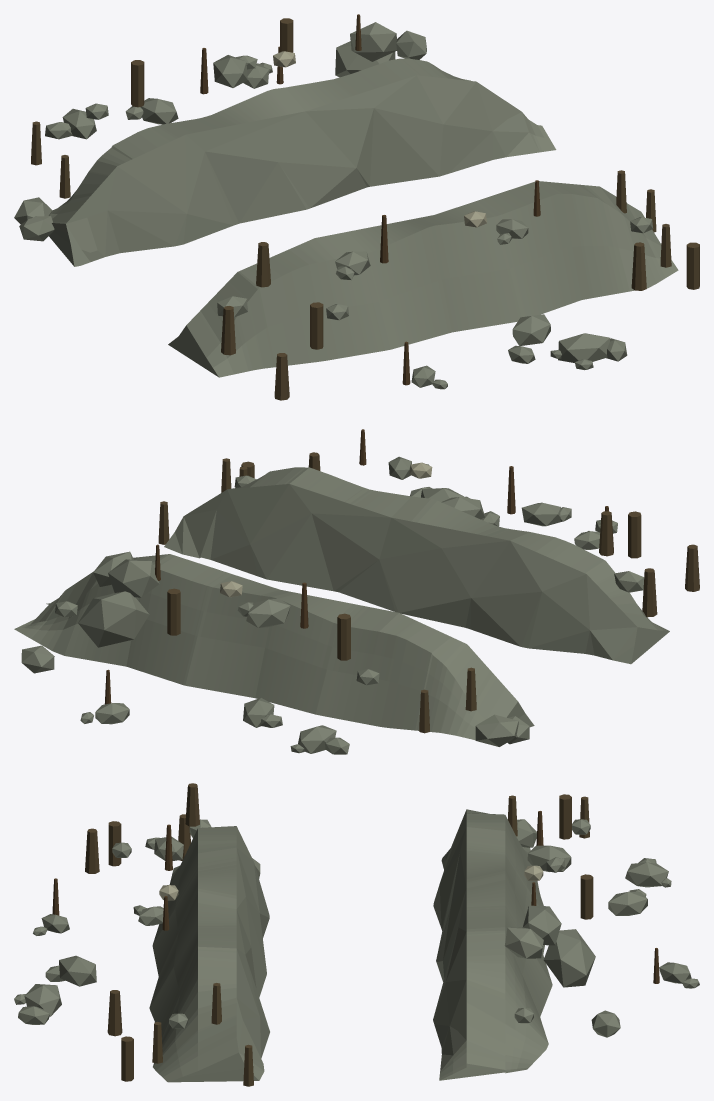
The model's file is path_cliff_passage_solid_props.fbx.
3 views of the same model, one above another, from view 1: azimuth 30°, elevation 25°; view 2: azimuth 150°, elevation 25°; view 3: azimuth 270°, elevation 25° (orthographic). The views are drawn at different scales.
Parts seen in each view (by area): view 1: chunk_path_cliff_passage__PropsSolid; view 2: chunk_path_cliff_passage__PropsSolid; view 3: chunk_path_cliff_passage__PropsSolid.
Part boxes in pixels (x1,y1,x2,y2): chunk_path_cliff_passage__PropsSolid: (14, 14, 699, 400); chunk_path_cliff_passage__PropsSolid: (14, 429, 699, 754); chunk_path_cliff_passage__PropsSolid: (14, 783, 699, 1086).
Size of the model in its own units: 176 by 51.82 by 218.
